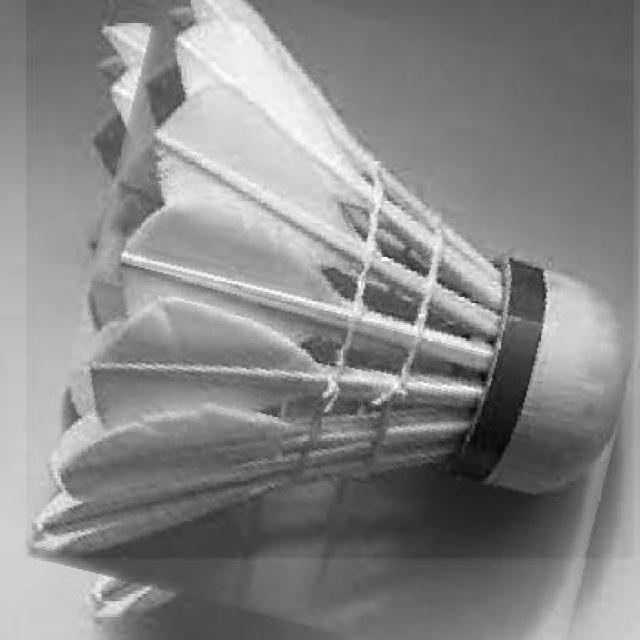Shuttlecock: (25, 0, 632, 557)
